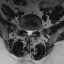CCS_normal: (28, 27, 30, 37)
LFS_normal: (33, 27, 35, 35)
LLS_normal: (30, 28, 32, 36)
RFS_stenosis: (24, 26, 26, 33)
RLS_normal: (26, 27, 28, 36)
